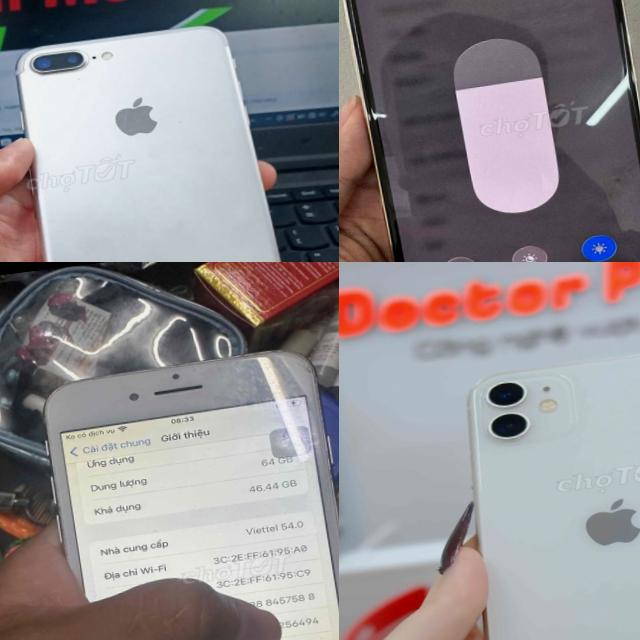gen_11: (442, 339, 640, 640)
gen_12_13: (339, 0, 640, 262)
gen_7_8: (24, 335, 339, 640), (1, 12, 303, 262)
